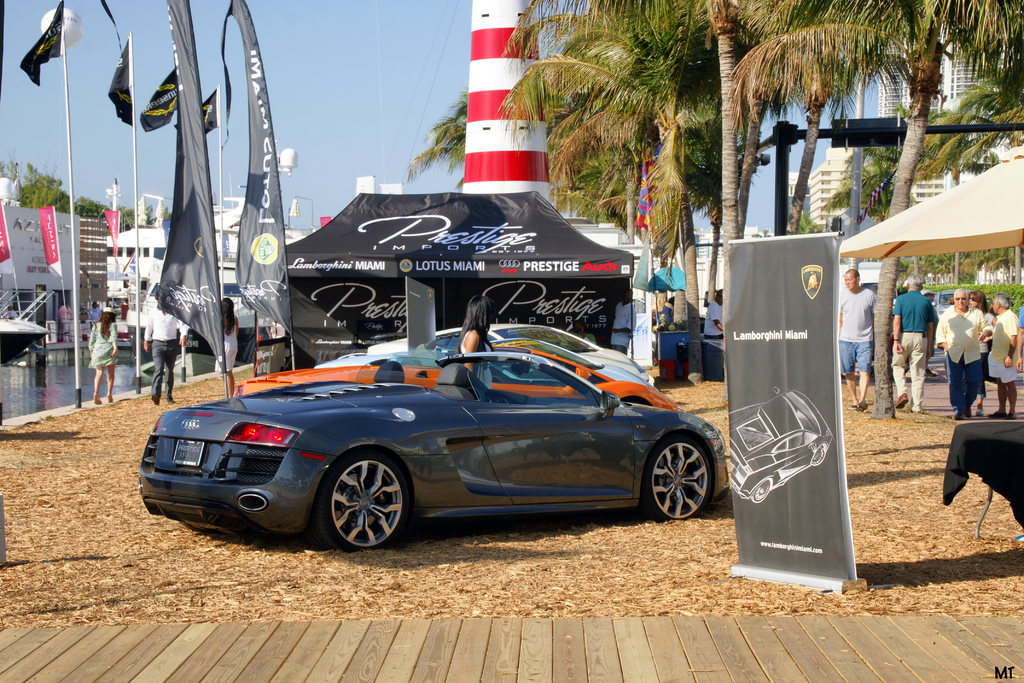mobil: (138, 358, 729, 559)
